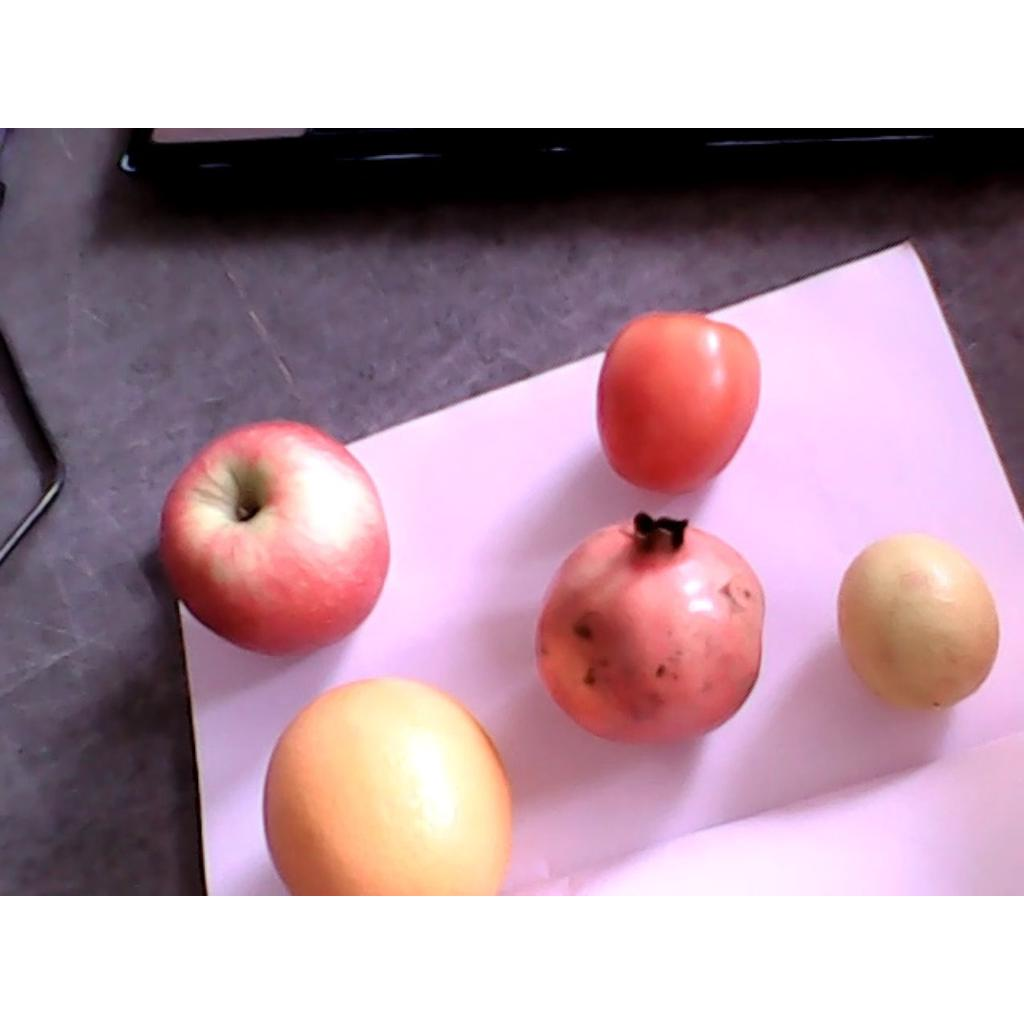apple: (158, 419, 390, 658)
lemon: (838, 536, 999, 711)
orange: (265, 678, 514, 894)
pomegranate: (535, 510, 766, 746)
tomato: (596, 313, 760, 496)
